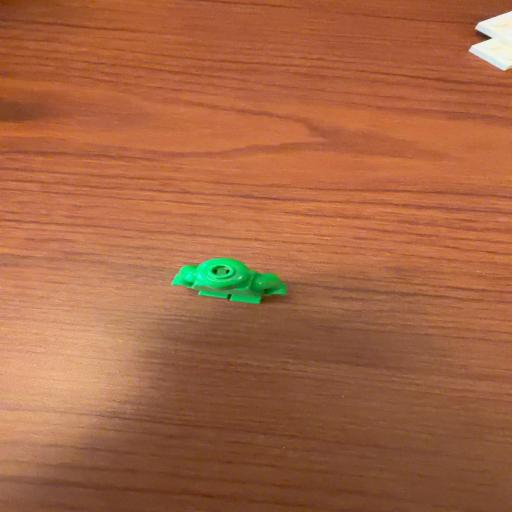UnoQ-minifig-detector: (171, 257, 288, 304)
